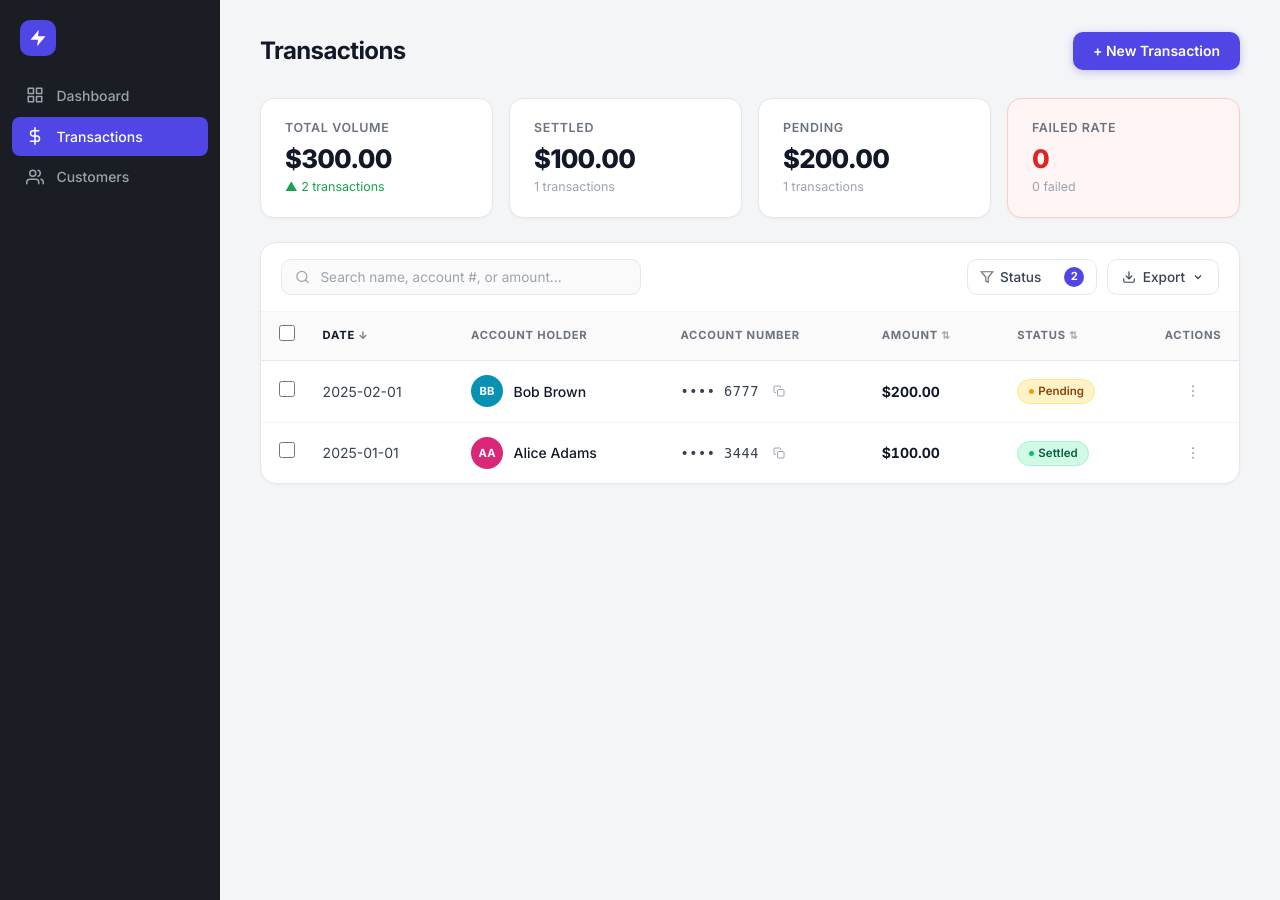
Test: App › strips non-digit characters and caps the account number at 12 digits
The width and height of the screenshot is (1280, 900).
Expected: the text "Alice Adams" is shown, [514, 442, 597, 464]
Step 1. Click the button "+ New Transaction" → (1156, 51), box [1073, 32, 1240, 70]
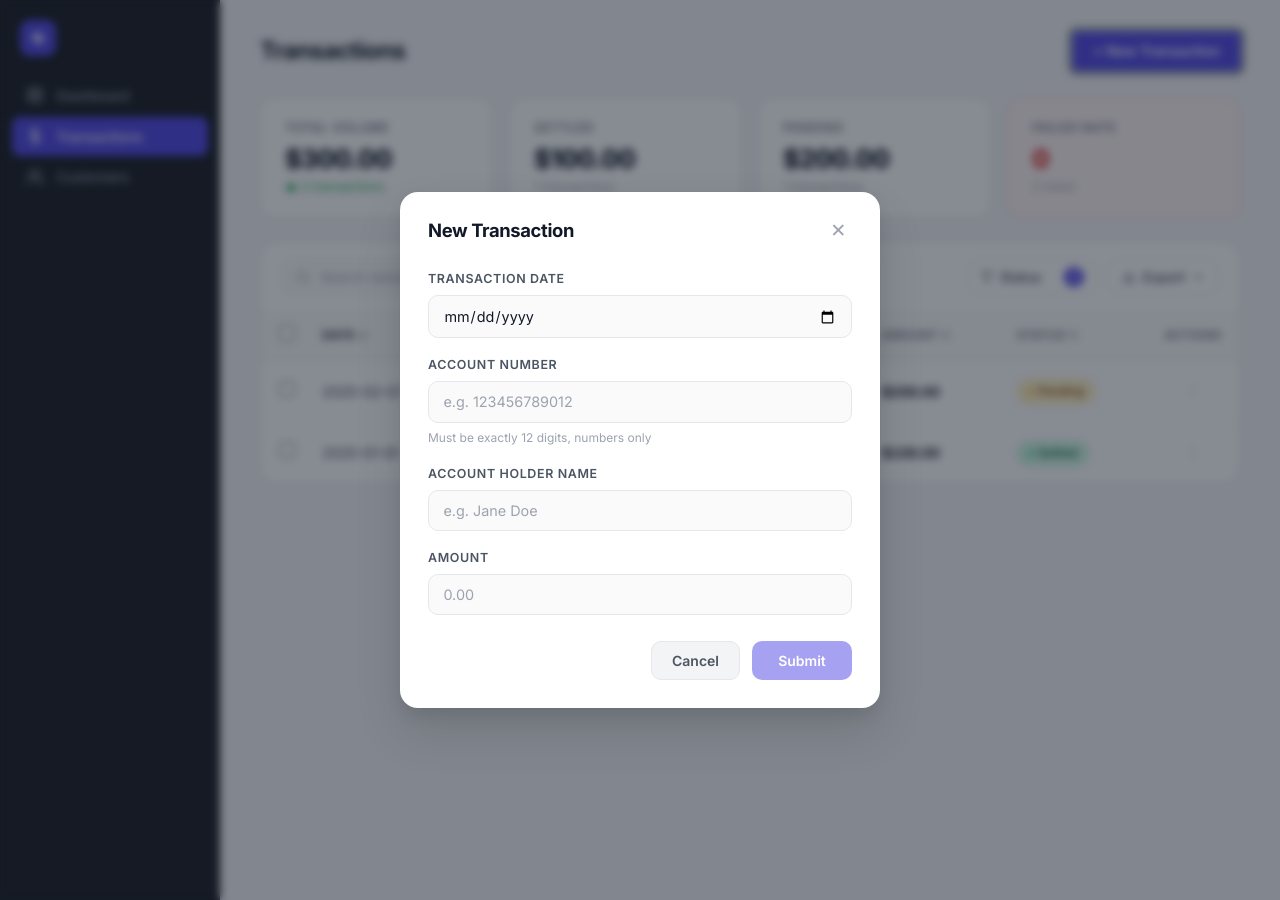
Step 2. Type "9988-7766-55443-333" into the field labelled "Account Number" → (640, 402), box [428, 381, 852, 422]
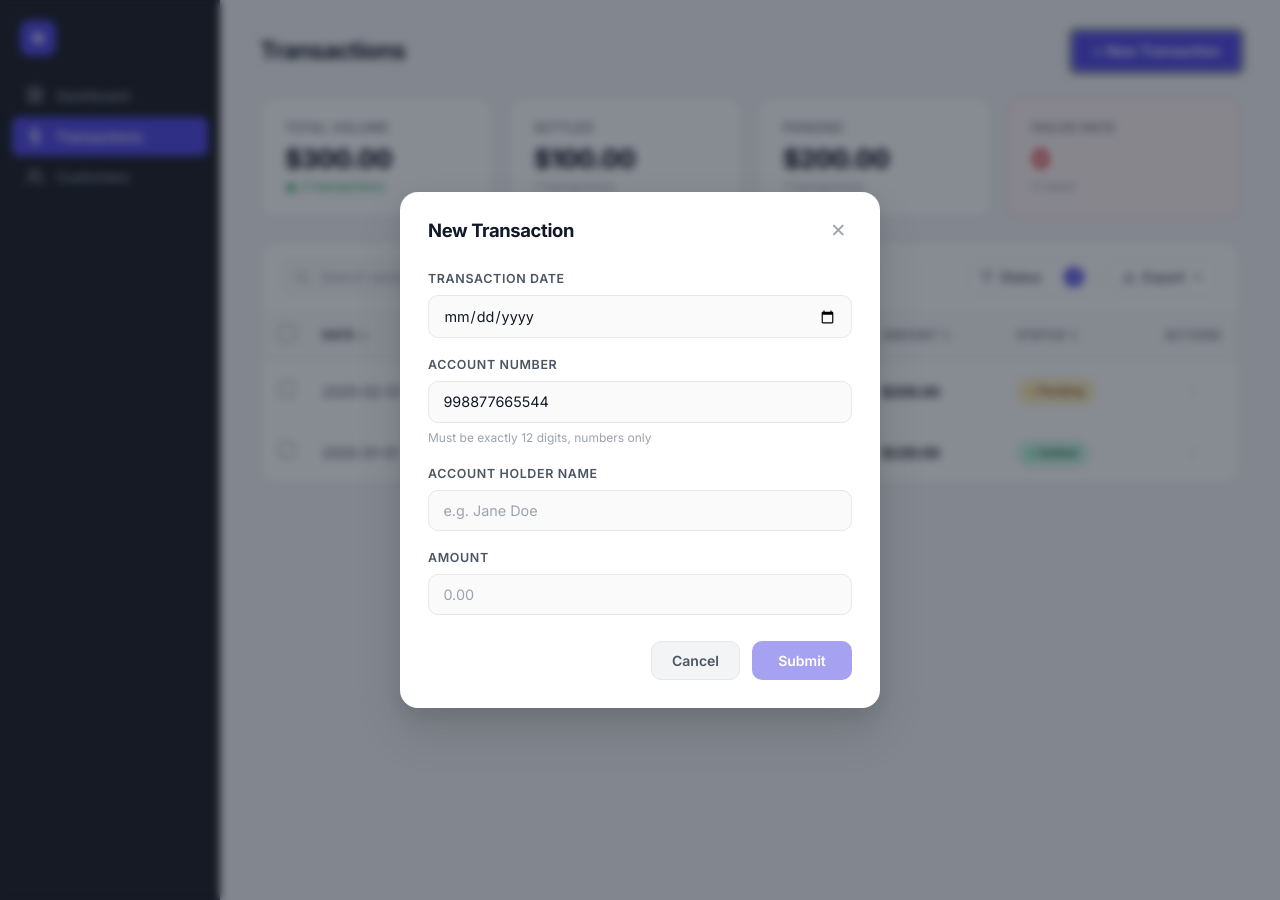
Result: the field labelled "Account Number" holds "998877665544" at [428, 381, 852, 422]
